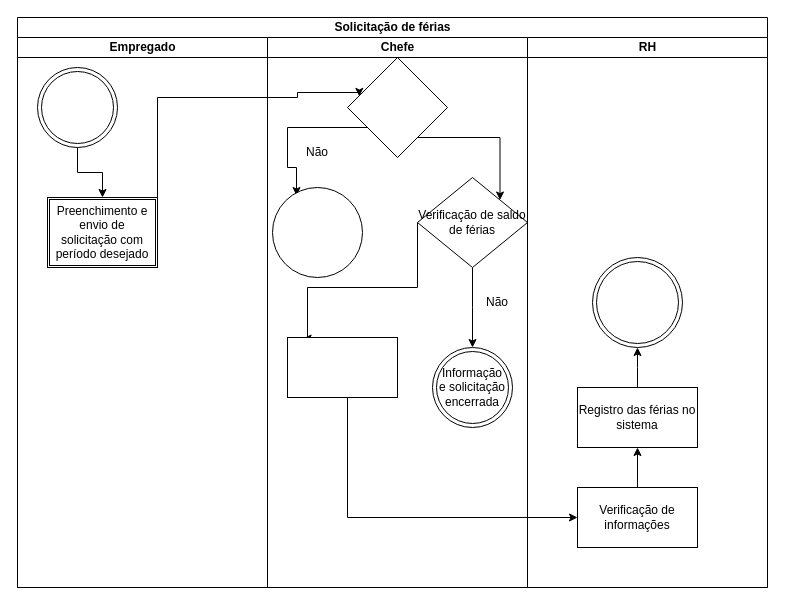
Image size: 785x605. Some labels were removed from this diagram. The box of each missing label's shape, as (x1, y1, x2, y2) in pixels:
Comunicação de aprovação á empregado e chefe: (592, 256, 682, 348)
Encaminhamento ao RH: (286, 336, 398, 398)
Informação e solicitação de novo período: (272, 186, 362, 278)
Necessidade de férias: (36, 66, 118, 148)
Verificação de período adequado: (346, 56, 448, 158)
